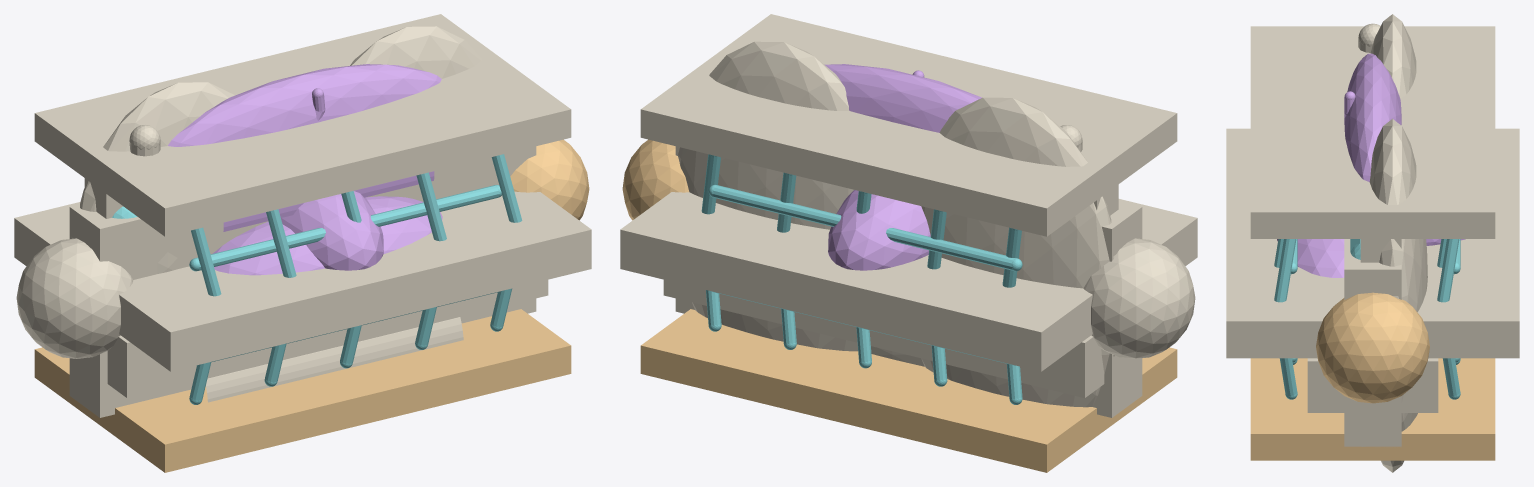
Rendered from skull-educational-bones.glb.
3 views of the same model, side by side, from view 1: azimuth 30°, elevation 25°; view 2: azimuth 150°, elevation 25°; view 3: azimuth 270°, elevation 25° (orthographic). The views are drawn at different scales.
Visible parts, largest first — view 1: edu|cranial-tables|outer, edu|palatine-torus|palate, edu|cranial-tables|inner, edu|variant-A02-1-15-013|body, edu|variant-A02-1-04-013|separate, edu|cranial-tables|diploe, edu|optic|start, edu|variant-A02-1-03-024|surface, edu|variant-A02-1-07-012|superior, edu|palatine-torus|torus, edu|variant-A02-1-03-007|half-1, edu|variant-A02-1-15-013|torus (+5 smaller); view 2: edu|cranial-tables|outer, edu|palatine-torus|palate, edu|cranial-tables|inner, edu|variant-A02-1-03-007|half-1, edu|variant-A02-1-03-007|half1, edu|optic|start, edu|cranial-tables|diploe, edu|variant-A02-1-03-024|surface, edu|variant-A02-1-04-013|separate, edu|palatine-torus|torus, edu|variant-A02-1-15-013|body, edu|optic|end; view 3: edu|cranial-tables|outer, edu|palatine-torus|palate, edu|cranial-tables|inner, edu|optic|end, edu|variant-A02-1-03-007|half1, edu|variant-A02-1-15-013|body, edu|variant-A02-1-04-013|separate, edu|cranial-tables|diploe, edu|variant-A02-1-03-024|surface, edu|variant-A02-1-03-007|half-1, edu|variant-A02-1-15-013|torus, edu|sutural-bone|bone-b (+1 smaller).
Boxes of the visible parts, x1,y1,x2,y2 form: edu|cranial-tables|outer: (34,14,571,236); edu|palatine-torus|palate: (14,191,591,371); edu|cranial-tables|inner: (34,309,571,472); edu|variant-A02-1-15-013|body: (69,146,536,417); edu|variant-A02-1-04-013|separate: (168,64,441,146); edu|cranial-tables|diploe: (189,154,522,404); edu|optic|start: (16,238,133,358); edu|variant-A02-1-03-024|surface: (107,279,548,398); edu|variant-A02-1-07-012|superior: (206,317,463,402); edu|palatine-torus|torus: (281,191,383,270); edu|variant-A02-1-03-007|half-1: (71,82,234,238); edu|variant-A02-1-15-013|torus: (212,196,442,275); edu|cranial-tables|outer: (640,14,1177,236); edu|palatine-torus|palate: (620,192,1197,371); edu|cranial-tables|inner: (640,309,1177,472); edu|variant-A02-1-03-007|half-1: (921,97,1116,407); edu|variant-A02-1-03-007|half1: (678,41,857,351); edu|optic|start: (1083,238,1195,358); edu|cranial-tables|diploe: (701,154,1022,404); edu|variant-A02-1-03-024|surface: (663,279,1104,398); edu|variant-A02-1-04-013|separate: (824,64,981,132); edu|palatine-torus|torus: (828,190,930,270); edu|variant-A02-1-15-013|body: (675,146,1142,417); edu|optic|end: (622,139,689,220); edu|cranial-tables|outer: (1250,26,1495,238); edu|palatine-torus|palate: (1226,128,1519,358); edu|cranial-tables|inner: (1250,358,1495,460); edu|optic|end: (1316,292,1429,403); edu|variant-A02-1-03-007|half1: (1369,119,1427,472); edu|variant-A02-1-15-013|body: (1344,239,1401,446); edu|variant-A02-1-04-013|separate: (1344,53,1401,181); edu|cranial-tables|diploe: (1274,239,1460,399); edu|variant-A02-1-03-024|surface: (1307,358,1438,412); edu|variant-A02-1-03-007|half-1: (1370,14,1416,98); edu|variant-A02-1-15-013|torus: (1277,239,1344,277); edu|sutural-bone|bone-b: (1360,225,1401,446).
Bounding box in the file's own units: 3.7 × 2.3 × 1.8.
